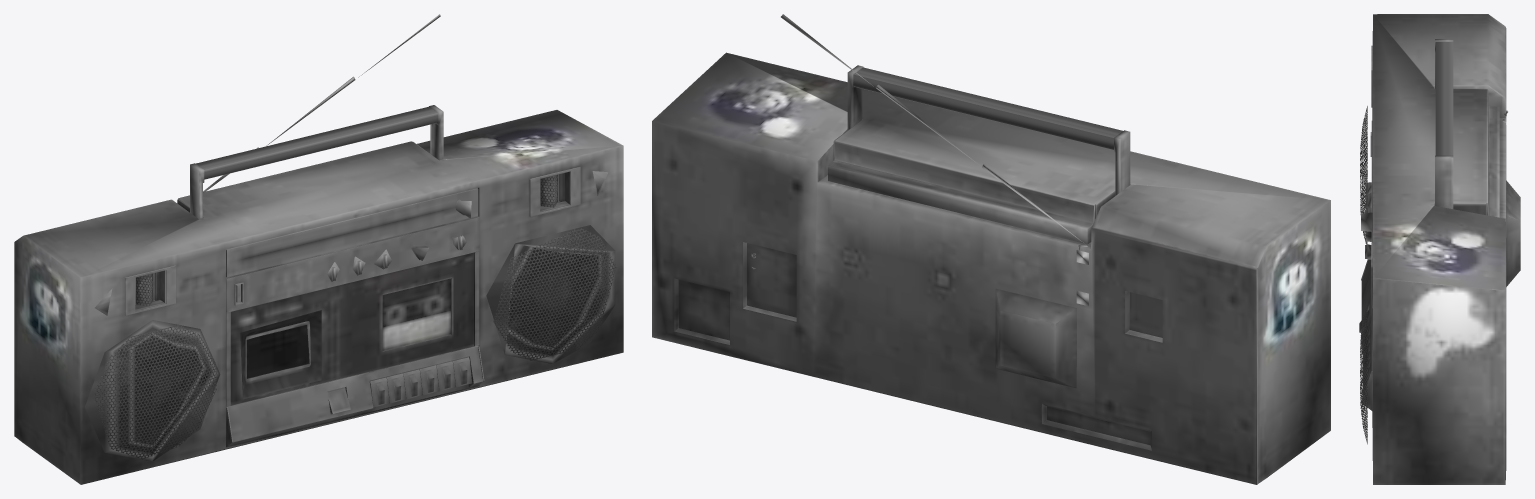
Rendered from boombox.glb.
The picture shows the model from 3 angles, left to right: view 1: azimuth 30°, elevation 25°; view 2: azimuth 150°, elevation 25°; view 3: azimuth 270°, elevation 25°; orthographic projection. The views are drawn at different scales.
Visible parts, largest first — view 1: boombox; view 2: boombox; view 3: boombox.
Boxes of the visible parts, x1,y1,x2,y2 form: boombox: [14, 14, 623, 484]; boombox: [652, 14, 1330, 484]; boombox: [1359, 14, 1520, 484].
Size of the model in its own units: 0.7229 by 0.4061 by 0.1865.
2 materials, 2 textured.
